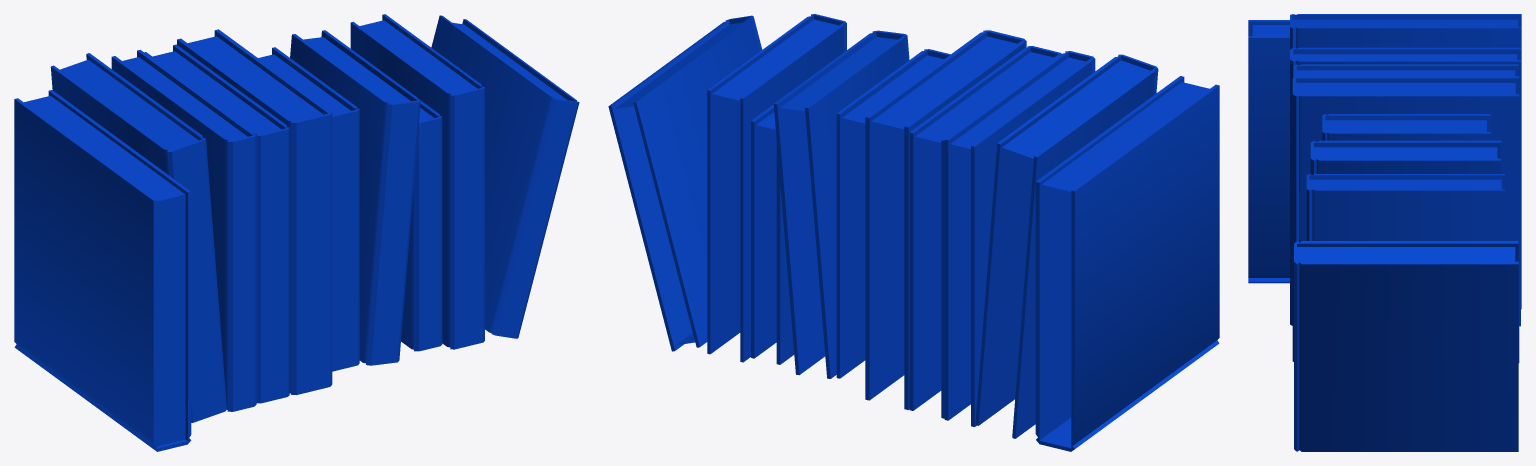
File: HalloweenRoomA_BooksJ.fbx
3 views of the same model, side by side, from view 1: azimuth 30°, elevation 25°; view 2: azimuth 150°, elevation 25°; view 3: azimuth 270°, elevation 25° (orthographic). The views are drawn at different scales.
Parts seen in each view (by area): view 1: HalloweenRoomA_BooksJ; view 2: HalloweenRoomA_BooksJ; view 3: HalloweenRoomA_BooksJ.
Boxes of the visible parts, x1,y1,x2,y2 form: HalloweenRoomA_BooksJ: [14, 14, 579, 451]; HalloweenRoomA_BooksJ: [608, 14, 1219, 451]; HalloweenRoomA_BooksJ: [1248, 14, 1521, 451].
Bounding box in the file's own units: 43.43 × 25.83 × 23.25.
